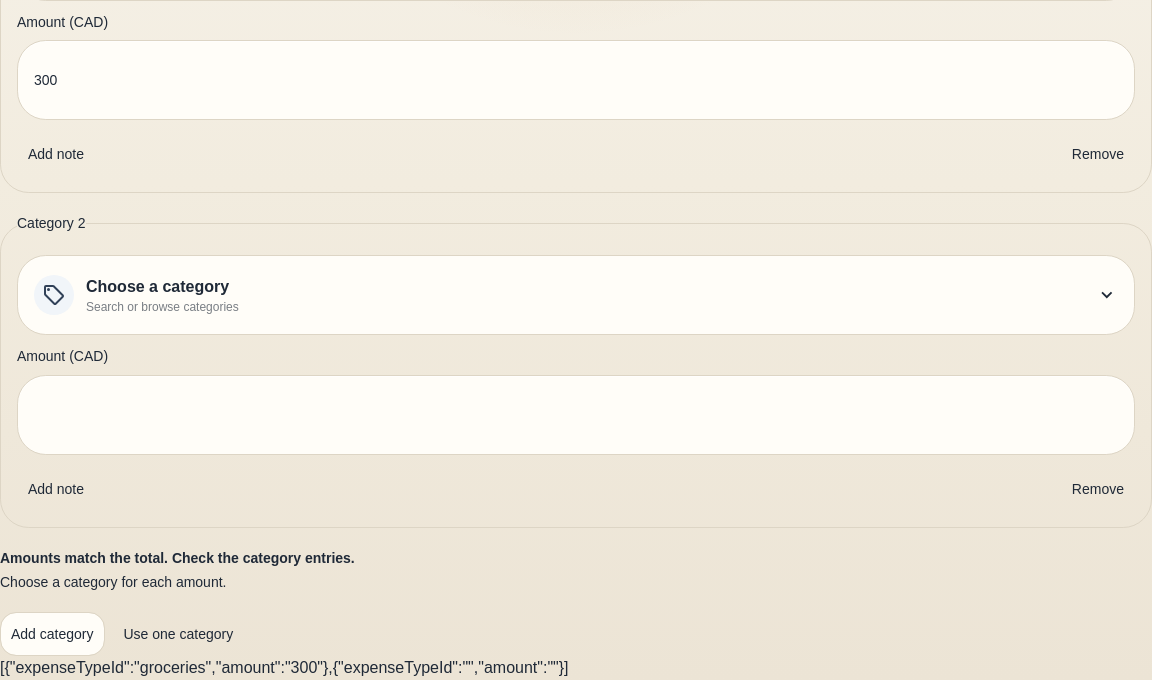
Test: category amounts › collapses an untouched full-total row without a redundant confirmation
(page scrolled)
Click the button with aria-label "Remove category 2" at (1098, 488), box [1061,466,1135,510]
(page scrolled)
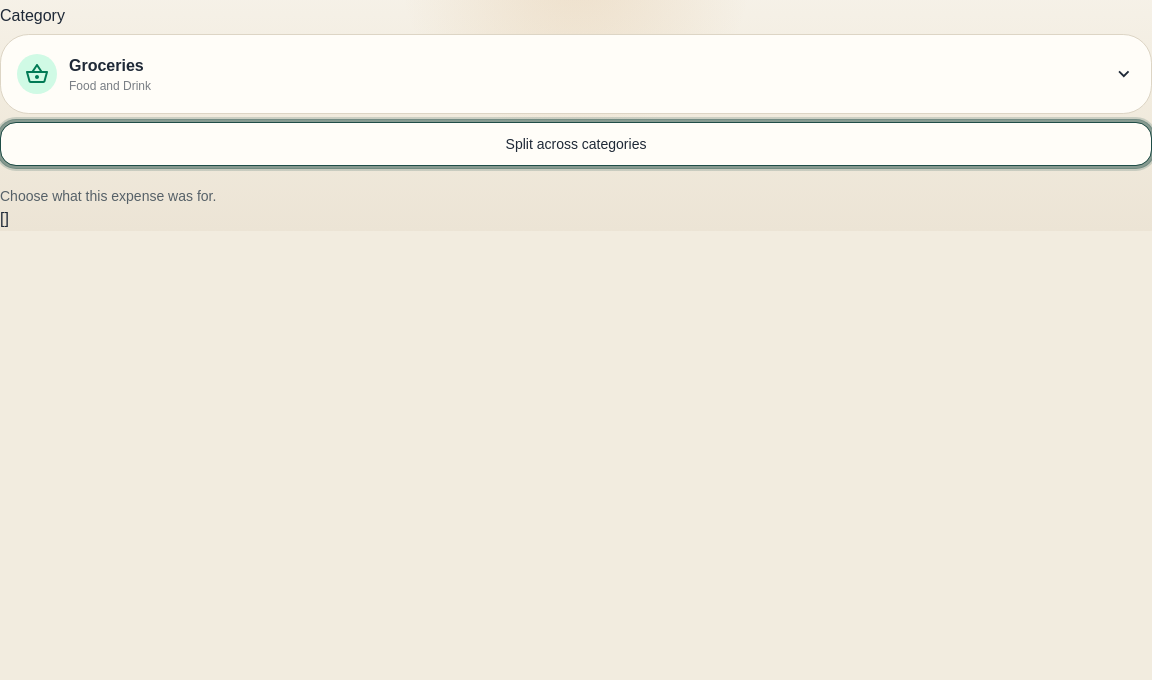
Expected: the button "Split across categories" is shown, [0,122,1151,166]
